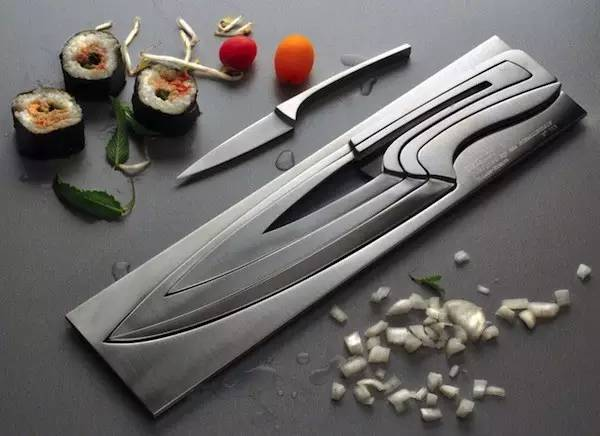knife: (83, 49, 443, 176)
